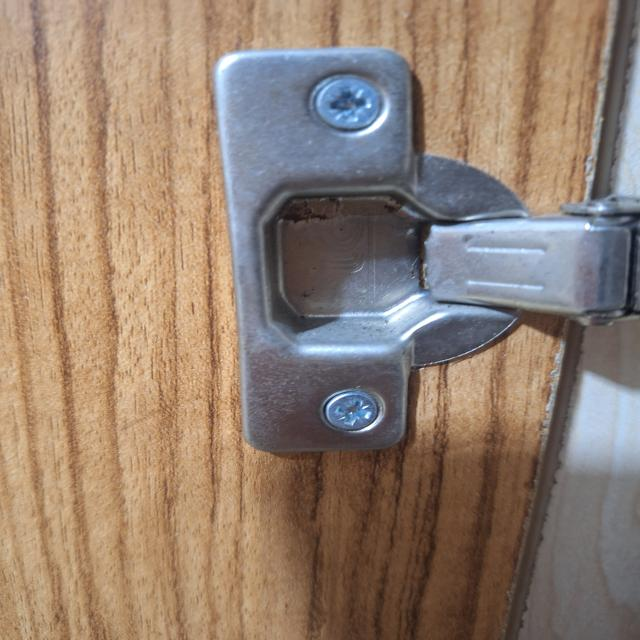Pozidriv: (304, 76, 394, 134), (319, 386, 385, 431)
